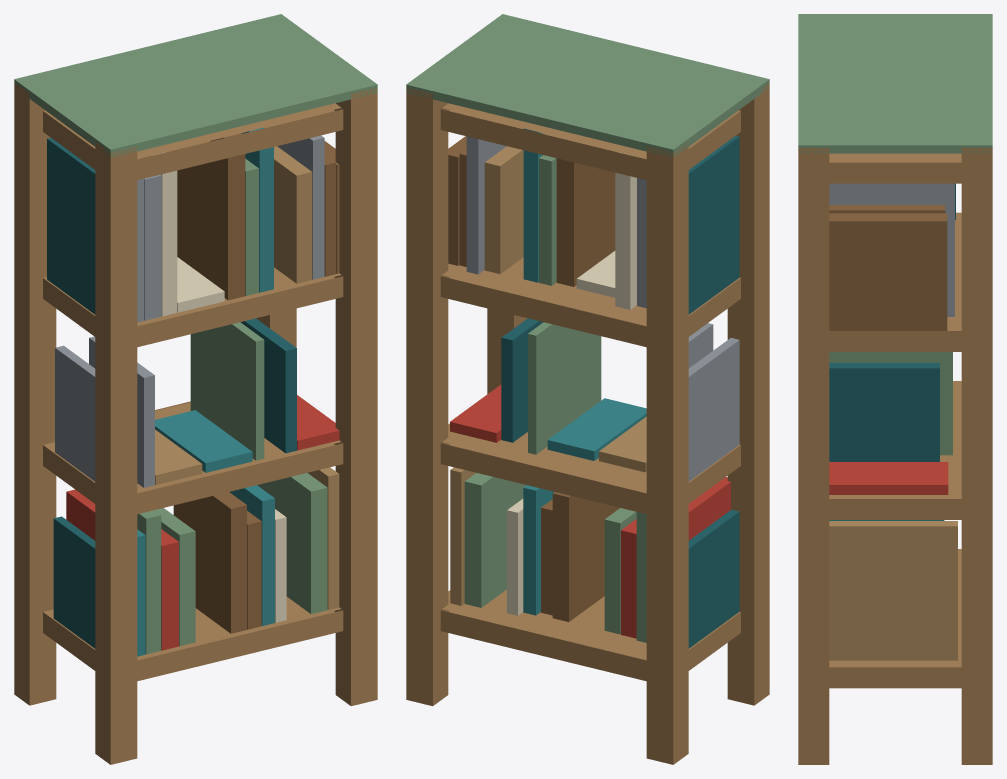
The model's file is bookcaseOpen.glb.
The picture shows the model from 3 angles, left to right: view 1: azimuth 30°, elevation 25°; view 2: azimuth 150°, elevation 25°; view 3: azimuth 270°, elevation 25°; orthographic projection.
Visible parts, largest first — view 1: bookcaseOpen(Clone); view 2: bookcaseOpen(Clone); view 3: bookcaseOpen(Clone).
Boxes of the visible parts, x1,y1,x2,y2 form: bookcaseOpen(Clone): (14, 14, 377, 764); bookcaseOpen(Clone): (406, 14, 769, 764); bookcaseOpen(Clone): (798, 14, 992, 764).
Bounding box in the file's own units: 0.4 × 0.88 × 0.25.
